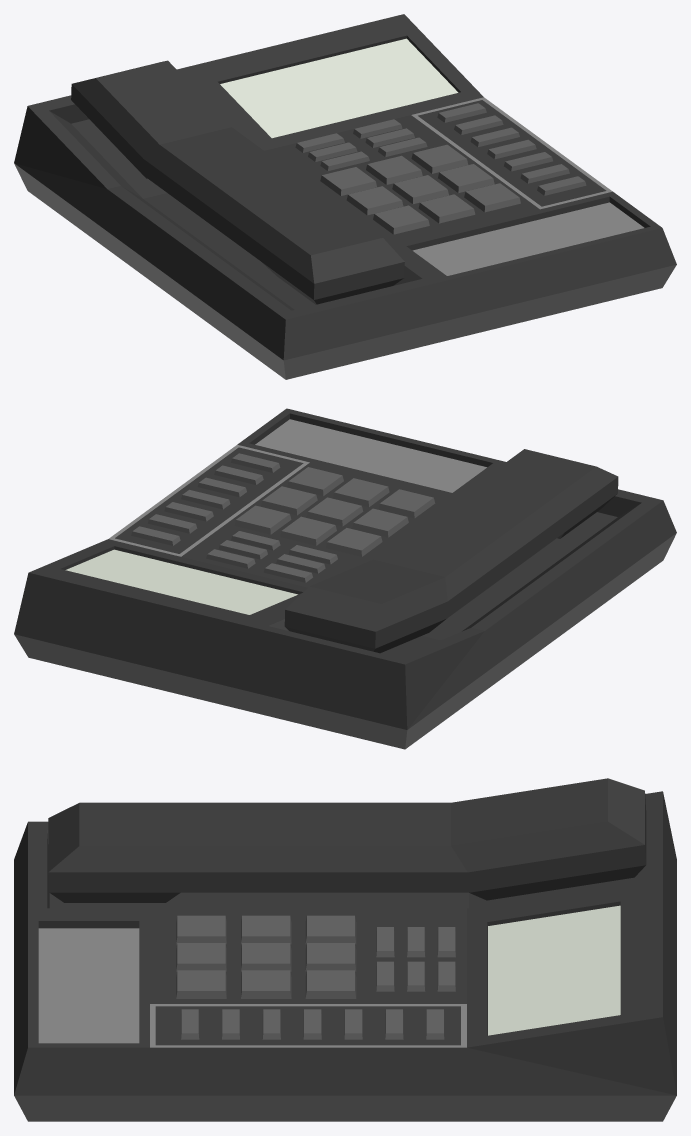
File: TelephoneV1Black.fbx
The picture shows the model from 3 angles, top to bottom: view 1: azimuth 30°, elevation 25°; view 2: azimuth 150°, elevation 25°; view 3: azimuth 270°, elevation 25°; orthographic projection. The views are drawn at different scales.
Parts seen in each view (by area): view 1: TelephoneV1Black; view 2: TelephoneV1Black; view 3: TelephoneV1Black.
Boxes of the visible parts, x1,y1,x2,y2 form: TelephoneV1Black: [14, 14, 676, 379]; TelephoneV1Black: [14, 408, 676, 749]; TelephoneV1Black: [14, 778, 676, 1121].
Size of the model in its own units: 13.66 by 3.91 by 16.23.
